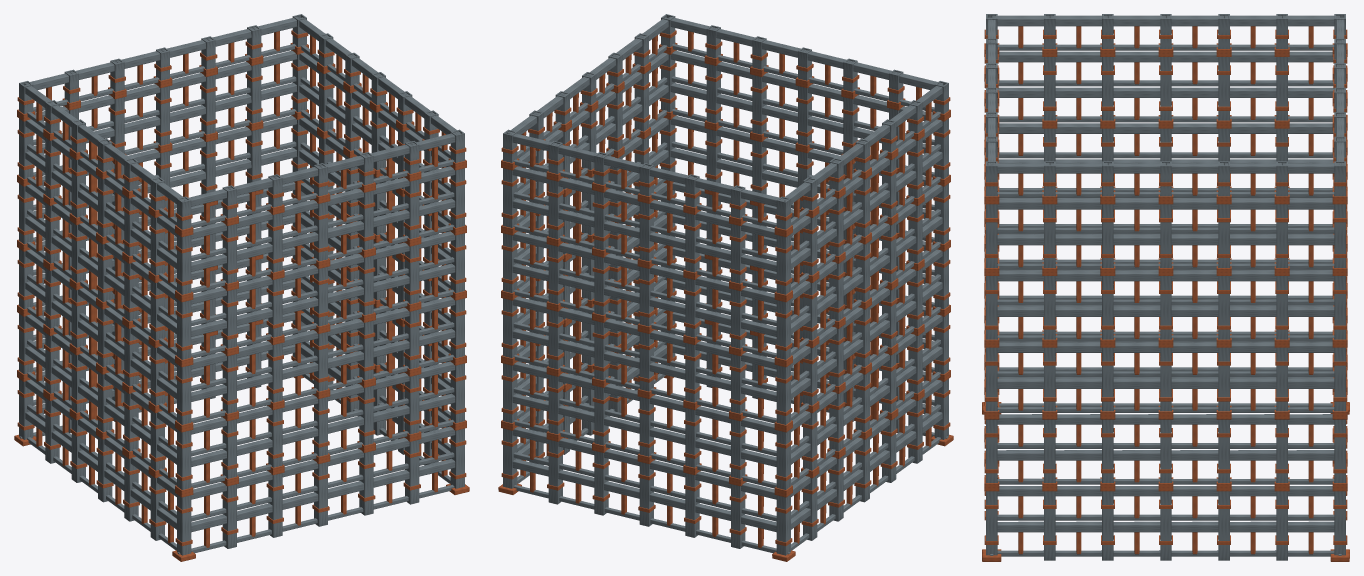
3 renders of one model, left to right at view 1: azimuth 30°, elevation 25°; view 2: azimuth 150°, elevation 25°; view 3: azimuth 270°, elevation 25°, orthographic. The views are drawn at different scales.
Parts seen in each view (by area): view 1: Tier 0 side 0 post 0, Tier 2 side 0 post 0, Tier 3 side 0 post 0, Tier 4 side 0 post 0, Tier 1 side 0 post 0, Tier 0 side 0 post 5, Tier 0 side 0 post 2, Tier 0 side 0 post 4, Tier 0 side 0 post 1, Tier 0 side 0 post 3, Tier 1 side 0 post 5, Tier 4 side 0 post 5 (+61 smaller); view 2: Tier 0 side 3 post 0, Tier 3 side 3 post 0, Tier 2 side 3 post 0, Tier 4 side 3 post 0, Tier 1 side 3 post 0, Tier 0 side 2 post 3, Tier 0 side 2 post 1, Tier 0 side 2 post 4, Tier 0 side 2 post 2, Tier 0 side 2 post 5, Tier 4 side 2 post 3, Tier 3 side 2 post 3 (+61 smaller); view 3: Tier 0 side 1 post 1, Tier 0 side 1 post 2, Tier 0 side 1 post 3, Tier 0 side 1 post 4, Tier 0 side 1 post 5, Tier 2 side 1 post 0, Tier 2 side 1 post 1, Tier 2 side 1 post 2, Tier 2 side 1 post 3, Tier 2 side 1 post 4, Tier 2 side 1 post 5, Tier 2 side 2 post 0 (+118 smaller).
Part boxes in pixels (x1,y1,x2,y2): Tier 0 side 0 post 0: [177, 494, 191, 555]; Tier 2 side 0 post 0: [177, 364, 191, 424]; Tier 3 side 0 post 0: [177, 299, 191, 359]; Tier 4 side 0 post 0: [177, 234, 191, 294]; Tier 1 side 0 post 0: [177, 429, 191, 489]; Tier 0 side 0 post 5: [405, 440, 419, 504]; Tier 0 side 0 post 2: [268, 473, 282, 537]; Tier 0 side 0 post 4: [359, 451, 373, 515]; Tier 0 side 0 post 1: [222, 484, 236, 548]; Tier 0 side 0 post 3: [314, 462, 327, 526]; Tier 1 side 0 post 5: [405, 374, 419, 434]; Tier 4 side 0 post 5: [405, 179, 419, 239]; Tier 0 side 3 post 0: [776, 494, 790, 555]; Tier 3 side 3 post 0: [776, 299, 790, 359]; Tier 2 side 3 post 0: [776, 364, 790, 424]; Tier 4 side 3 post 0: [776, 234, 790, 294]; Tier 1 side 3 post 0: [776, 429, 790, 489]; Tier 0 side 2 post 3: [639, 462, 653, 526]; Tier 0 side 2 post 1: [548, 440, 562, 504]; Tier 0 side 2 post 4: [685, 473, 699, 537]; Tier 0 side 2 post 2: [594, 451, 608, 515]; Tier 0 side 2 post 5: [731, 484, 745, 548]; Tier 4 side 2 post 3: [639, 201, 653, 261]; Tier 3 side 2 post 3: [639, 267, 653, 326]; Tier 0 side 1 post 1: [1044, 491, 1055, 560]; Tier 0 side 1 post 2: [1102, 491, 1113, 560]; Tier 0 side 1 post 3: [1160, 491, 1171, 560]; Tier 0 side 1 post 4: [1218, 491, 1229, 560]; Tier 0 side 1 post 5: [1276, 491, 1287, 560]; Tier 2 side 1 post 0: [986, 347, 997, 411]; Tier 2 side 1 post 1: [1044, 347, 1055, 411]; Tier 2 side 1 post 2: [1102, 347, 1113, 411]; Tier 2 side 1 post 3: [1160, 347, 1171, 411]; Tier 2 side 1 post 4: [1218, 347, 1229, 411]; Tier 2 side 1 post 5: [1276, 347, 1287, 411]; Tier 2 side 2 post 0: [1334, 347, 1345, 411].
Bounding box in the file's own units: 2.85 × 3.37 × 2.85.
Materials: 2 (2 with a texture image).
